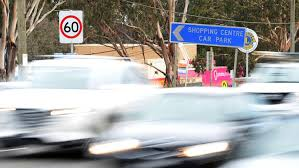Speed_limit_60km: (57, 16, 84, 39)
